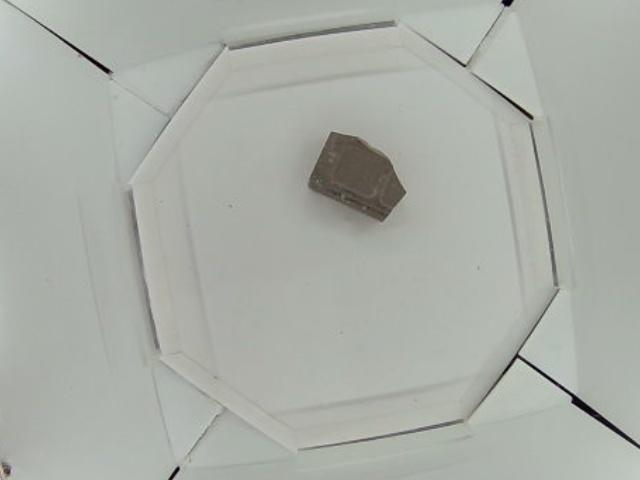China: (308, 130, 405, 222)
